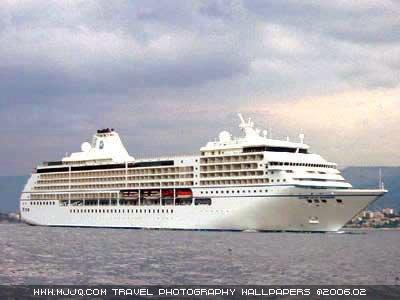youlun: (11, 113, 390, 235)
